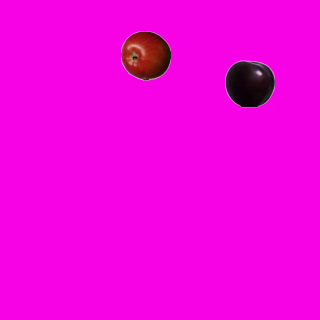Apple Braeburn: (120, 30, 170, 80)
Cherry Wax Black: (224, 58, 274, 108)
